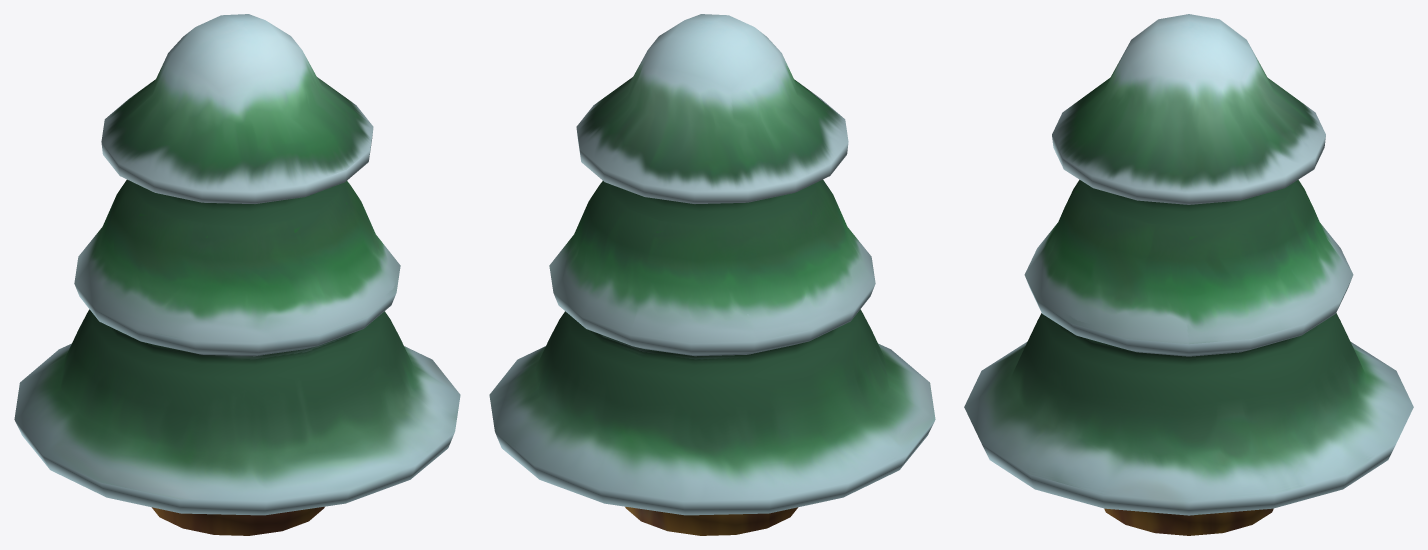
The model's file is pino.glb.
The picture shows the model from 3 angles, left to right: view 1: azimuth 30°, elevation 25°; view 2: azimuth 150°, elevation 25°; view 3: azimuth 270°, elevation 25°; orthographic projection.
Visible parts, largest first — view 1: pino; view 2: pino; view 3: pino.
Part boxes in pixels (x1,y1,x2,y2): pino: (14,14,460,535); pino: (489,14,935,535); pino: (964,14,1413,535).
Size of the model in its own units: 5.09 by 5.94 by 5.09.
1 material, 1 textured.
